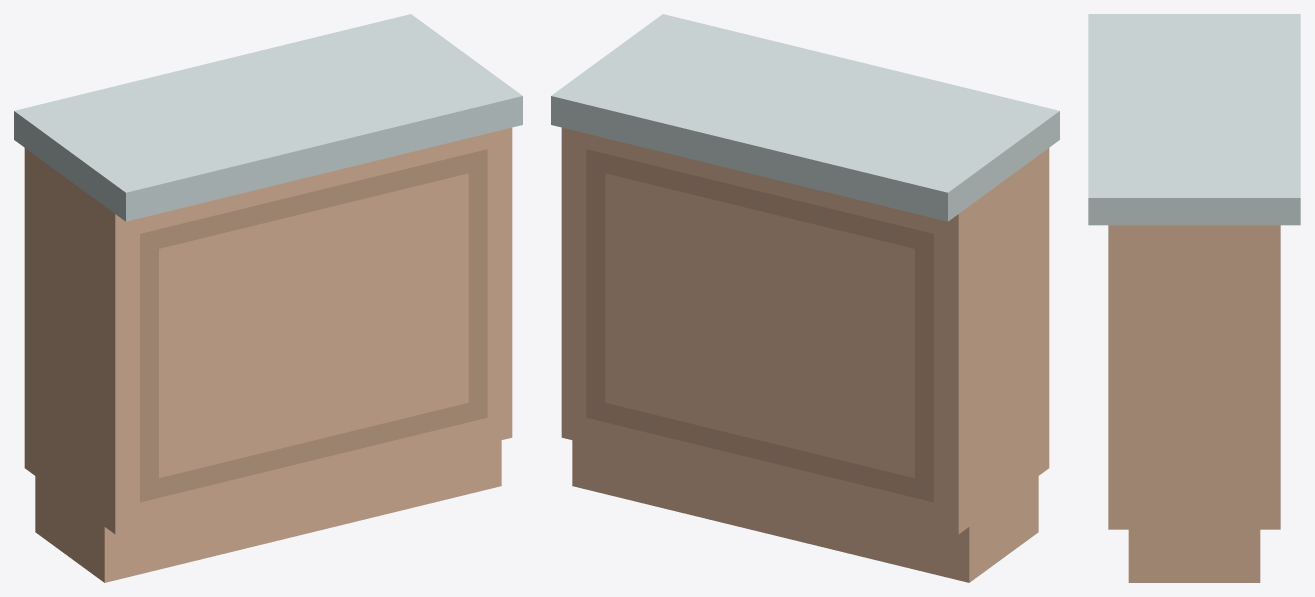
File: kitchen_bar.fbx
3 views of the same model, side by side, from view 1: azimuth 30°, elevation 25°; view 2: azimuth 150°, elevation 25°; view 3: azimuth 270°, elevation 25° (orthographic). The views are drawn at different scales.
Parts seen in each view (by area): view 1: kitchen_bar; view 2: kitchen_bar; view 3: kitchen_bar.
Boxes of the visible parts, left/top/right/bottom form: kitchen_bar: left=14, top=14, right=522, bottom=582; kitchen_bar: left=551, top=14, right=1059, bottom=582; kitchen_bar: left=1088, top=14, right=1300, bottom=582.
Bounding box in the file's own units: 1.08 × 1.05 × 0.525.
